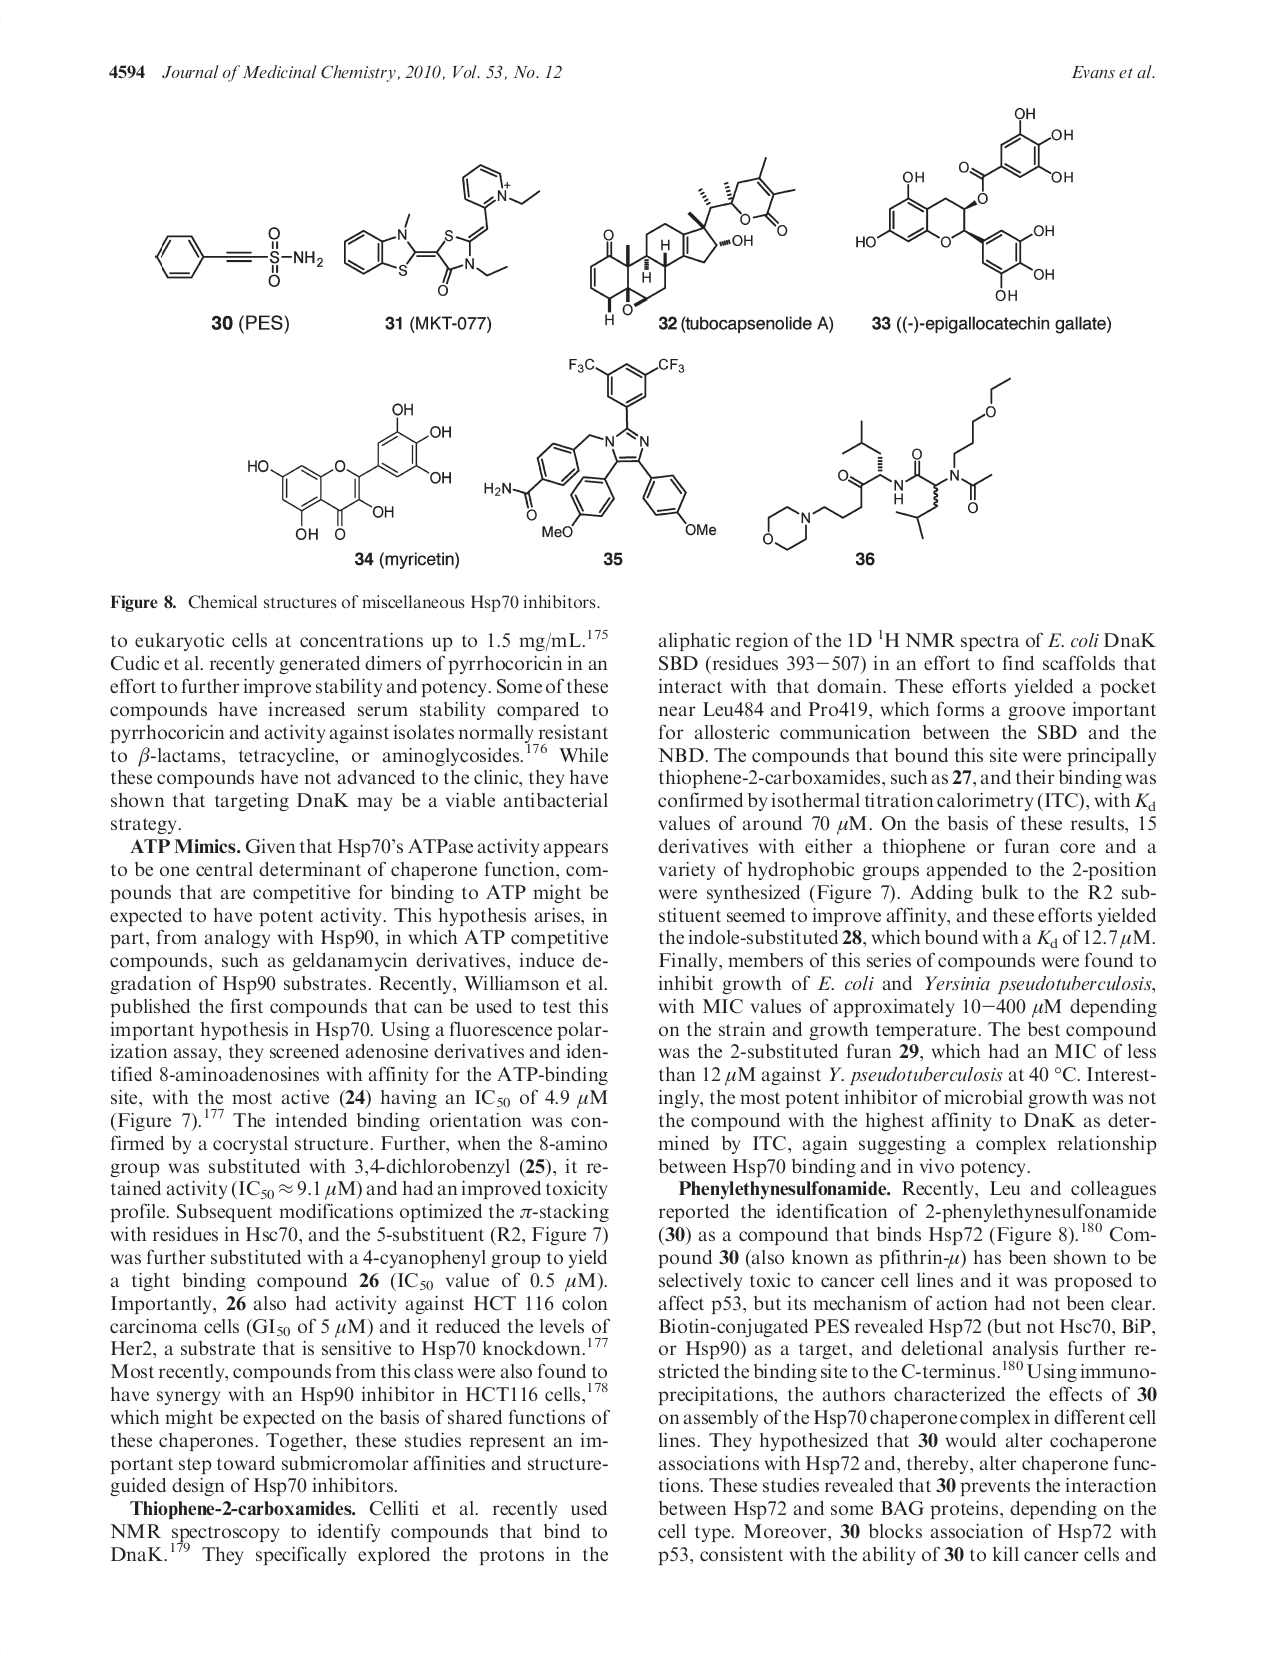exist_molecular: (753, 368, 1039, 559), (848, 97, 1078, 305), (483, 347, 722, 540), (243, 386, 461, 547), (336, 158, 543, 302), (152, 219, 327, 301)
